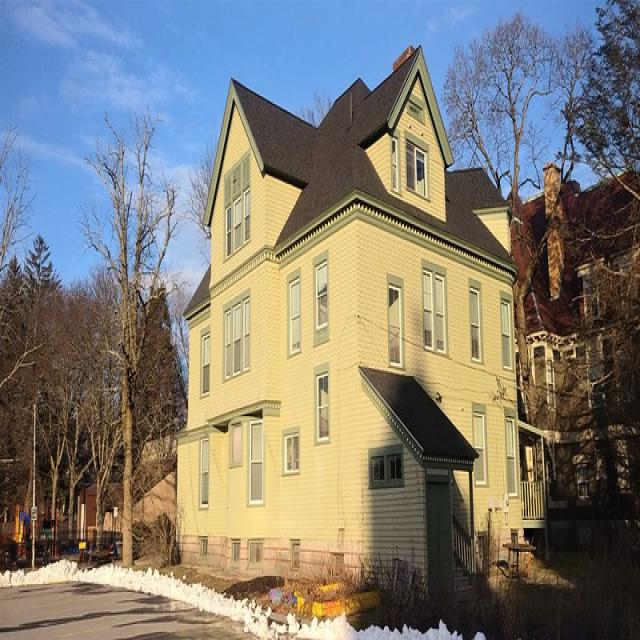Normal_building: (172, 40, 549, 606)
